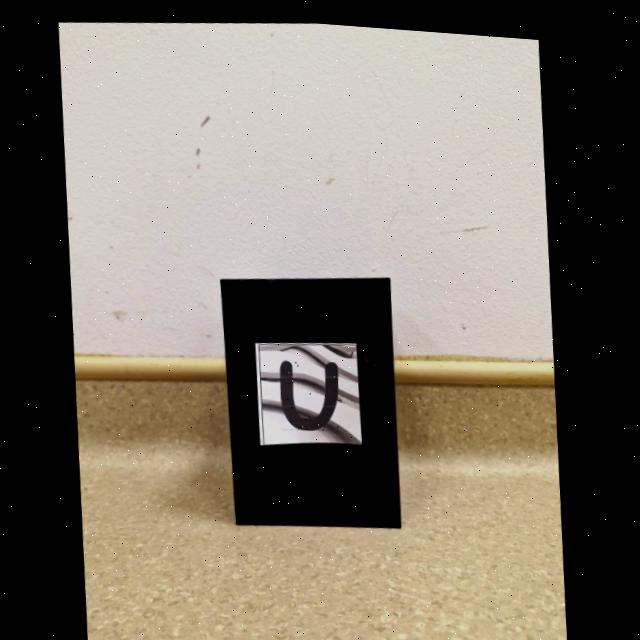U: (281, 356, 339, 425)
